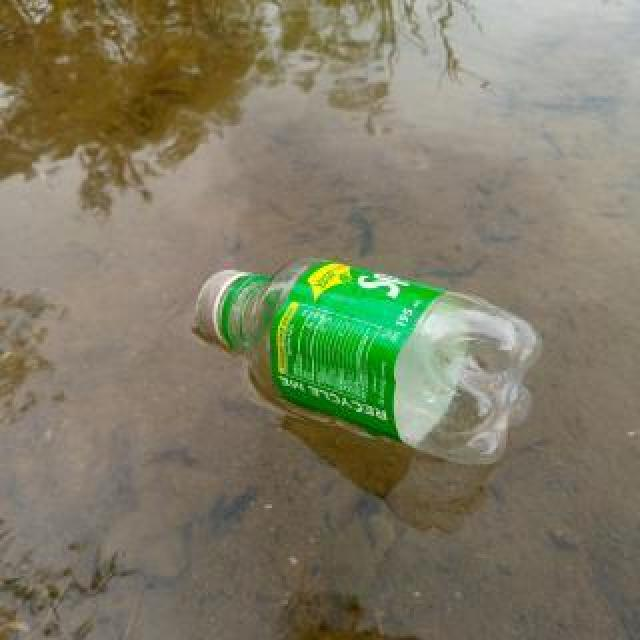bottle: (193, 255, 543, 467)
